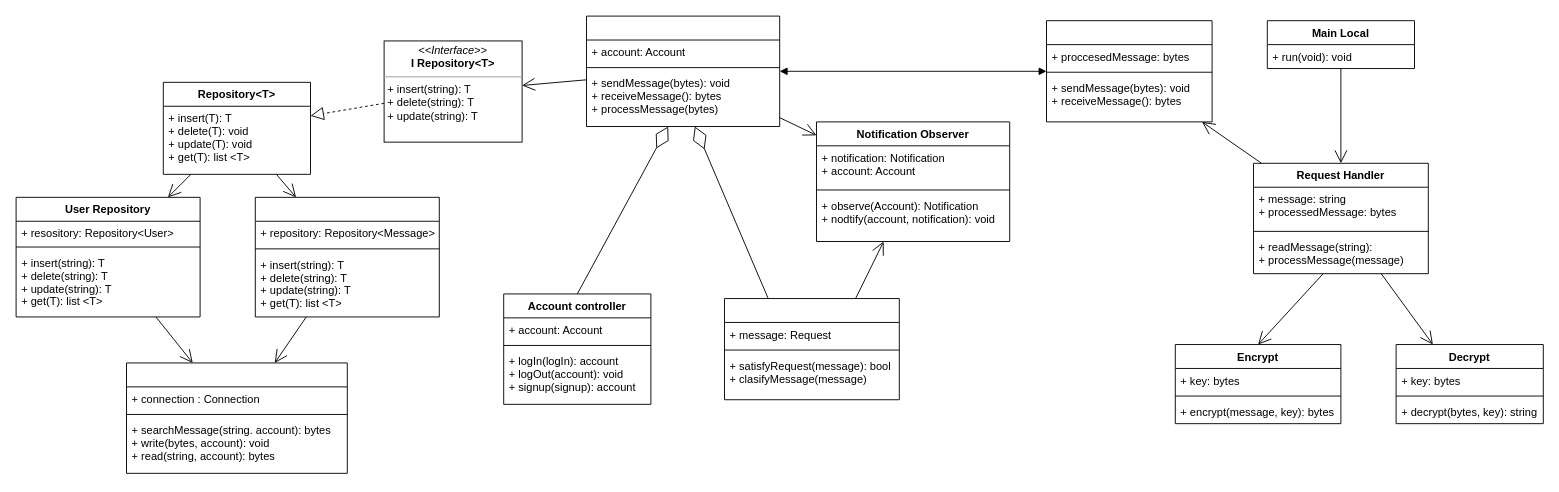
Some shapes in this 1559 by 492 pixel diagram are drawn without their labels. Here are the shapes that lost their labels. From the top down, the box of each, then its label:
(586, 15, 780, 126): Main Server
(1046, 20, 1212, 122): Comunication controller
(254, 196, 439, 317): Message Repository
(724, 298, 899, 400): Message controller
(126, 362, 347, 473): Database handler
